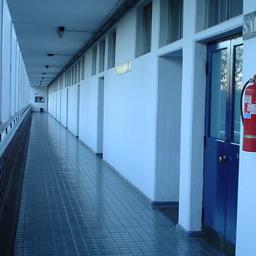Puerta: (204, 36, 237, 254)
